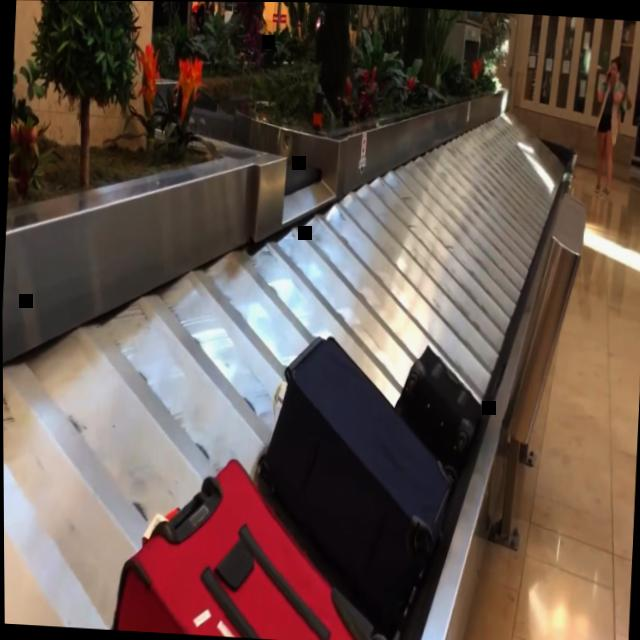luggage: (249, 329, 463, 640), (112, 449, 401, 640), (391, 343, 487, 465), (191, 82, 217, 109)
